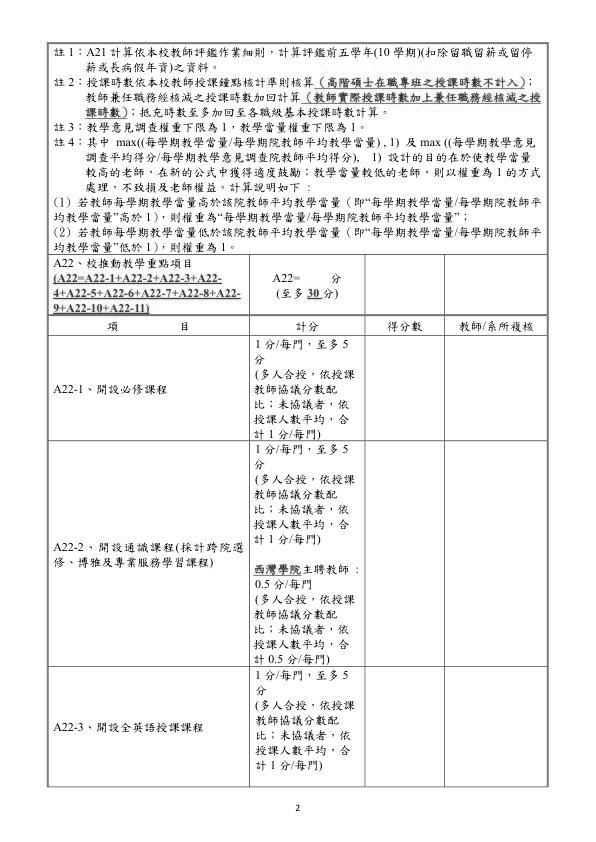table: (43, 37, 553, 796)
